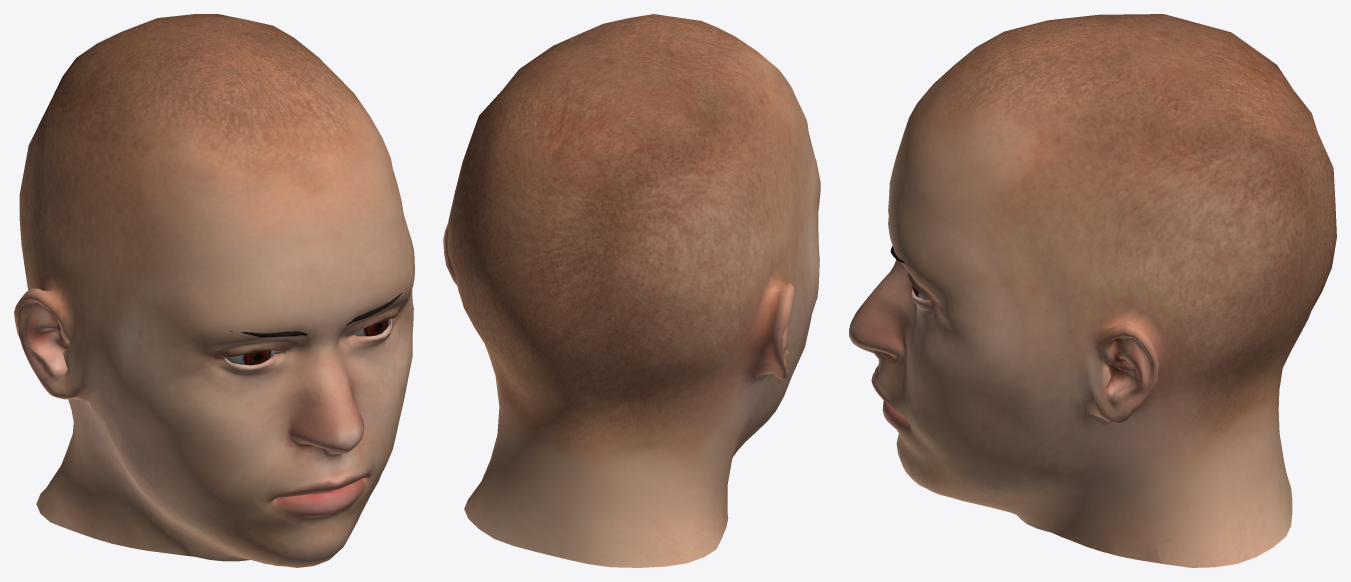
File: head_3_ltn.fbx
The picture shows the model from 3 angles, left to right: view 1: azimuth 30°, elevation 25°; view 2: azimuth 150°, elevation 25°; view 3: azimuth 270°, elevation 25°; orthographic projection. The views are drawn at different scales.
Visible parts, largest first — view 1: head_3_ltn; view 2: head_3_ltn; view 3: head_3_ltn.
Part boxes in pixels (bbox=[...]): head_3_ltn: bbox=[14, 14, 414, 567]; head_3_ltn: bbox=[443, 14, 820, 567]; head_3_ltn: bbox=[849, 14, 1336, 567].
Bounding box in the file's own units: 79.94 × 100 × 92.92.
Materials: 1 (1 with a texture image).
